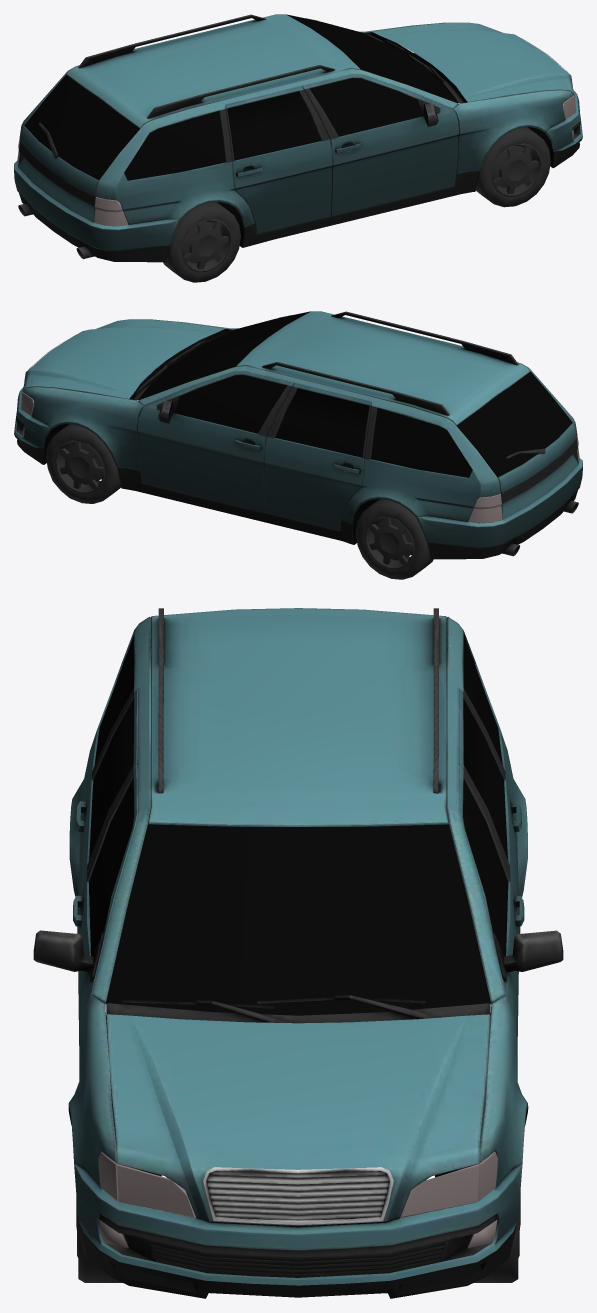
Rendered from pc-wagon.lod0.glb.
The picture shows the model from 3 angles, top to bottom: view 1: azimuth 30°, elevation 25°; view 2: azimuth 150°, elevation 25°; view 3: azimuth 270°, elevation 25°; orthographic projection. The views are drawn at different scales.
Visible parts, largest first — view 1: Wagon Body_Body_0, Wagon Body_Glass_0; view 2: Wagon Body_Body_0, Wagon Body_Glass_0; view 3: Wagon Body_Body_0, Wagon Body_Glass_0.
Part boxes in pixels (box(x1,y1,x2,y2)): Wagon Body_Body_0: box(14, 14, 582, 262); Wagon Body_Glass_0: box(17, 14, 575, 282); Wagon Body_Body_0: box(14, 311, 582, 559); Wagon Body_Glass_0: box(21, 311, 579, 579); Wagon Body_Body_0: box(33, 608, 563, 1298); Wagon Body_Glass_0: box(76, 635, 520, 1282).
Bounding box in the file's own units: 4.38 × 1.38 × 1.95.
Materials: 2 (1 with a texture image).
